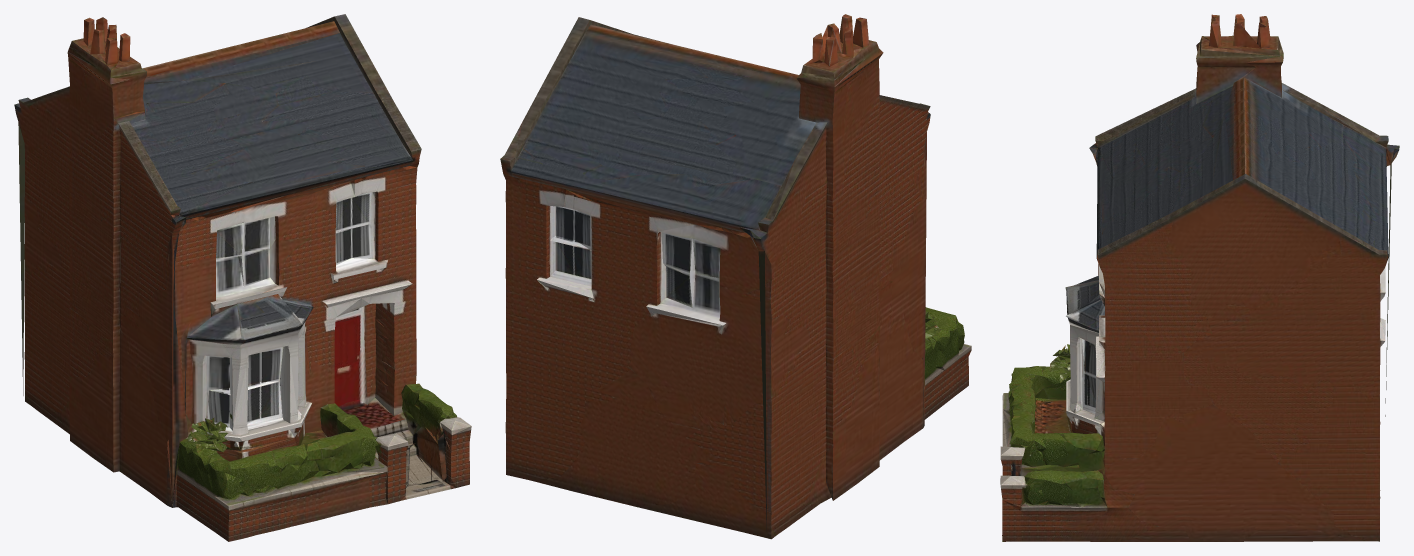
Rendered from prop_house_edwardian.glb.
3 renders of one model, left to right at view 1: azimuth 30°, elevation 25°; view 2: azimuth 150°, elevation 25°; view 3: azimuth 270°, elevation 25°, orthographic. The views are drawn at different scales.
Parts seen in each view (by area): view 1: Mesh_0; view 2: Mesh_0; view 3: Mesh_0.
Part boxes in pixels (left/top/right/bottom): Mesh_0: left=14, top=14, right=471, bottom=541; Mesh_0: left=500, top=14, right=971, bottom=539; Mesh_0: left=1000, top=14, right=1399, bottom=541.
Bounding box in the file's own units: 1.22 × 1.9 × 1.68.
1 material, 1 textured.
